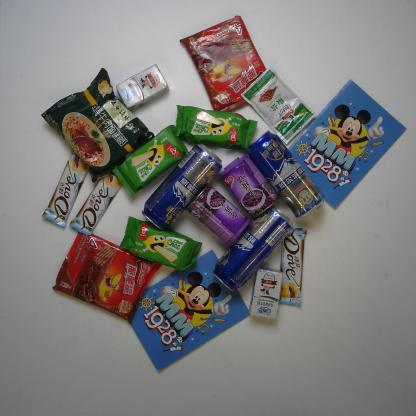Alcohol: (140, 142, 223, 231), (211, 204, 293, 292), (246, 129, 325, 220)
Canned Food: (184, 184, 251, 249), (218, 154, 280, 218)
Chocolate: (40, 149, 90, 228), (68, 172, 123, 236), (279, 228, 308, 307)
Dessert: (51, 231, 163, 324), (178, 15, 268, 112), (110, 124, 190, 197), (120, 216, 204, 272), (174, 104, 260, 152)
Instant Noodles: (40, 67, 156, 184)
Milk: (115, 61, 169, 110), (248, 267, 284, 319)
Seasoner: (240, 66, 316, 146)
Stationery: (289, 78, 406, 211), (129, 249, 252, 373)
